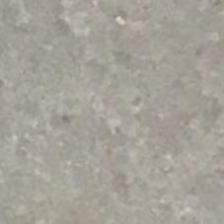Non_Crack: (8, 16, 198, 211)
